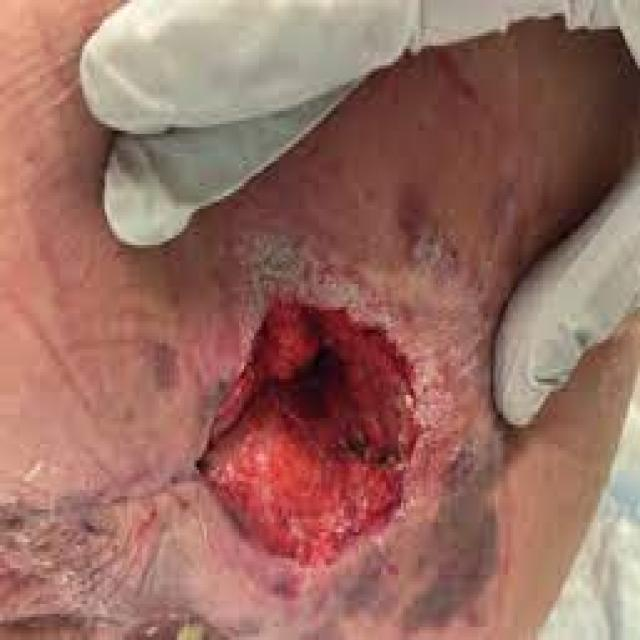stage-4: (201, 305, 425, 566)
